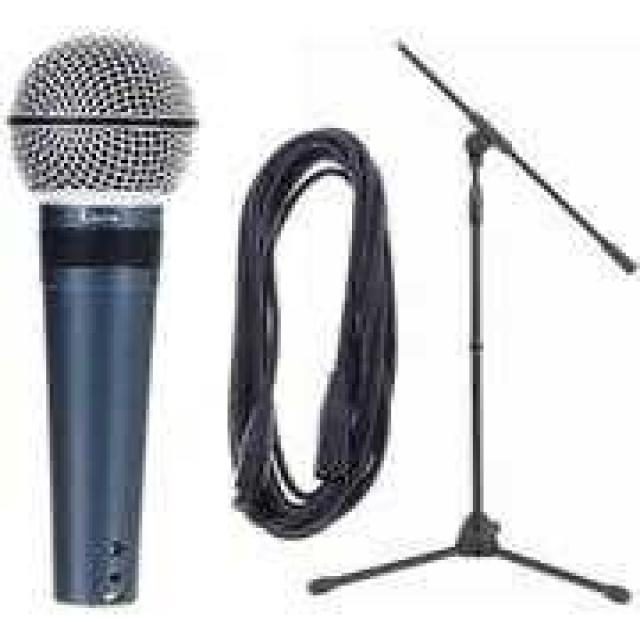microphone: (8, 37, 202, 601)
